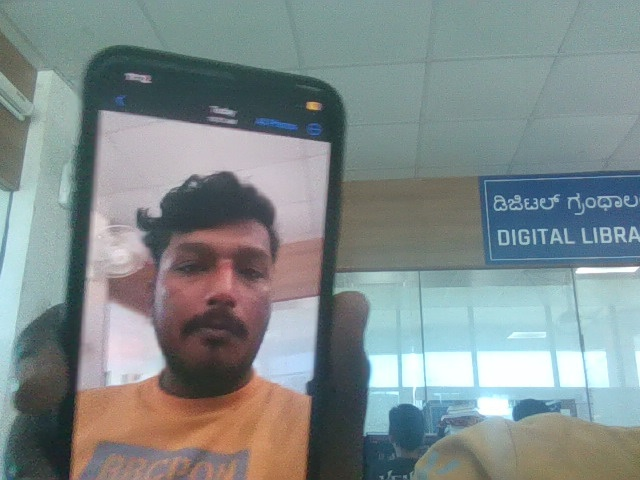fake: (134, 160, 294, 387)
